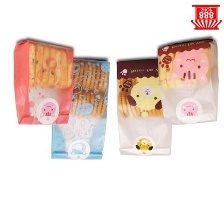snack: (45, 52, 113, 165), (109, 53, 179, 162), (152, 32, 224, 130), (8, 33, 79, 130)
